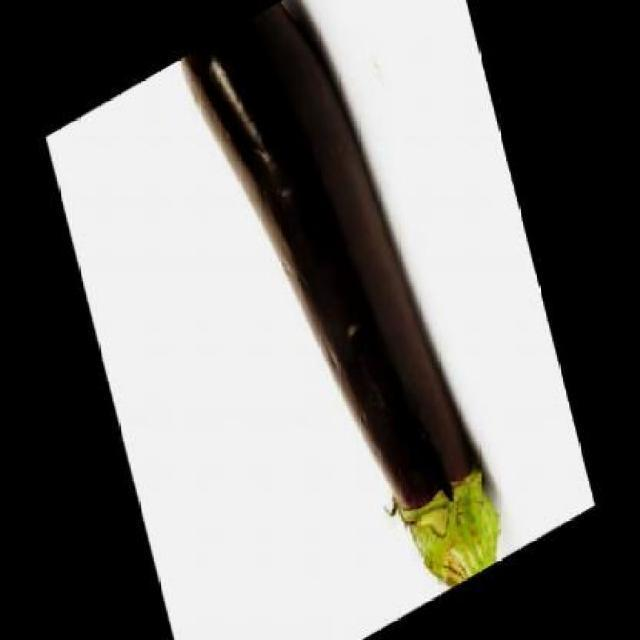eggplant: (177, 0, 508, 638)
